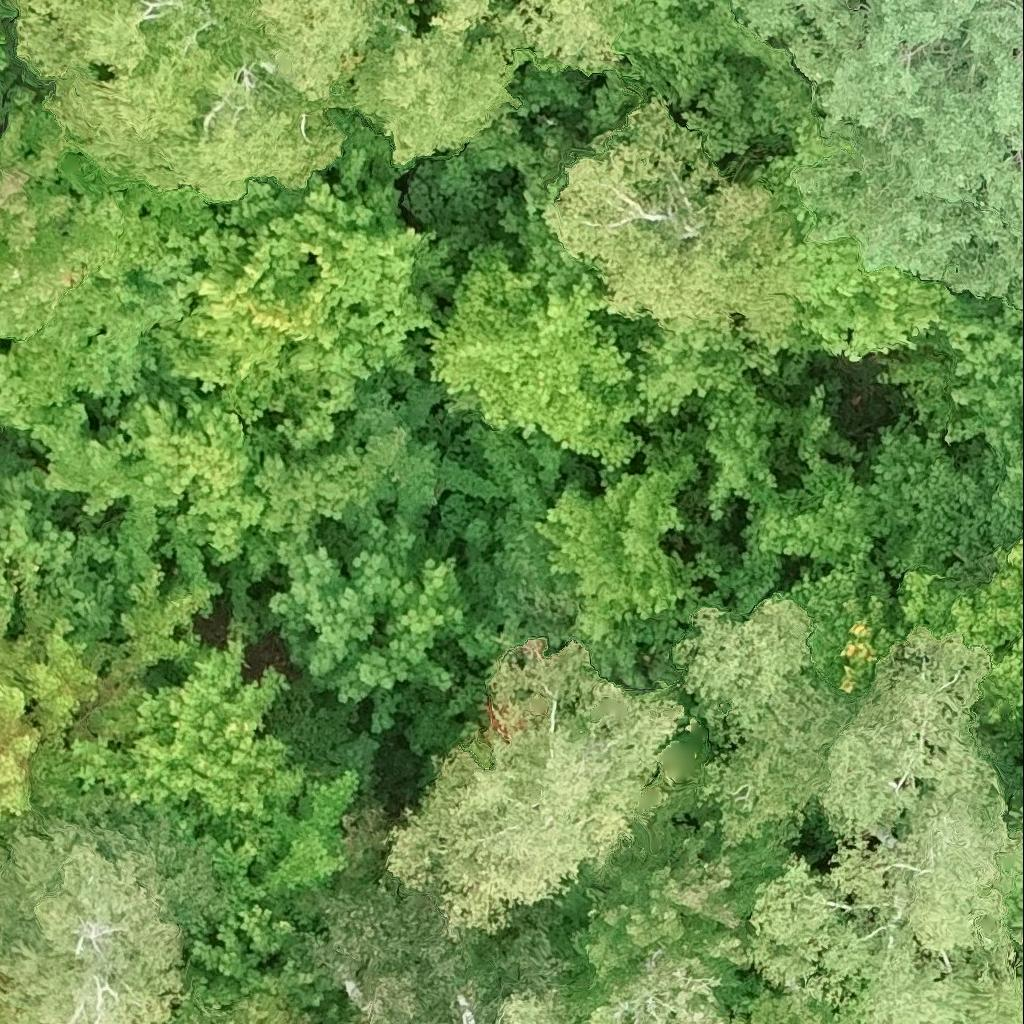crown: (434, 200, 874, 646), (531, 36, 985, 381), (746, 625, 1023, 1023), (127, 113, 454, 449), (383, 641, 684, 939), (733, 0, 1023, 308), (29, 378, 408, 581), (0, 103, 220, 443), (0, 0, 344, 210), (107, 625, 366, 895), (273, 443, 480, 751), (637, 592, 867, 852), (0, 567, 201, 846), (550, 814, 792, 1023), (0, 801, 223, 1023), (256, 0, 528, 175), (856, 317, 1023, 582), (310, 877, 566, 1023), (614, 0, 785, 162), (0, 450, 118, 621), (390, 0, 630, 74), (731, 993, 833, 1023), (0, 0, 17, 119), (997, 762, 1023, 837), (1006, 871, 1023, 964), (169, 1009, 268, 1023), (1019, 962, 1023, 993)
